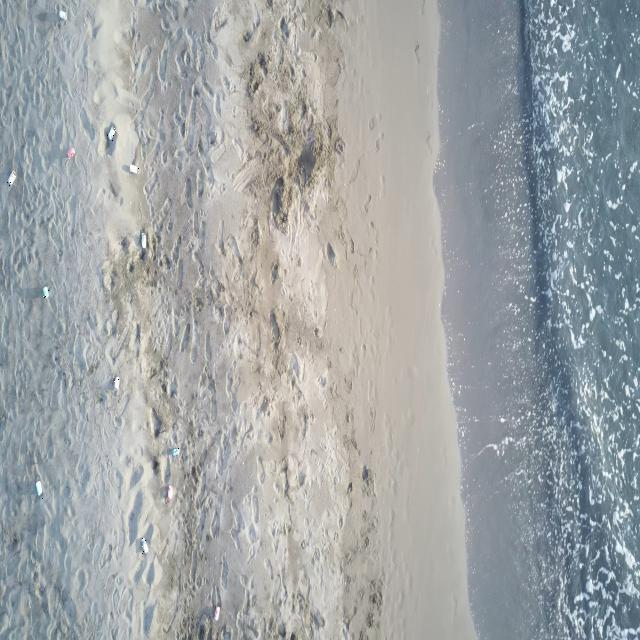Garbage: (5, 169, 16, 186), (164, 484, 173, 503), (140, 536, 148, 553), (107, 124, 115, 140), (212, 604, 220, 620), (57, 9, 67, 20), (65, 147, 75, 158), (112, 376, 119, 390), (129, 163, 139, 172), (168, 447, 179, 455), (35, 480, 40, 496), (140, 232, 145, 248), (43, 286, 48, 298)
